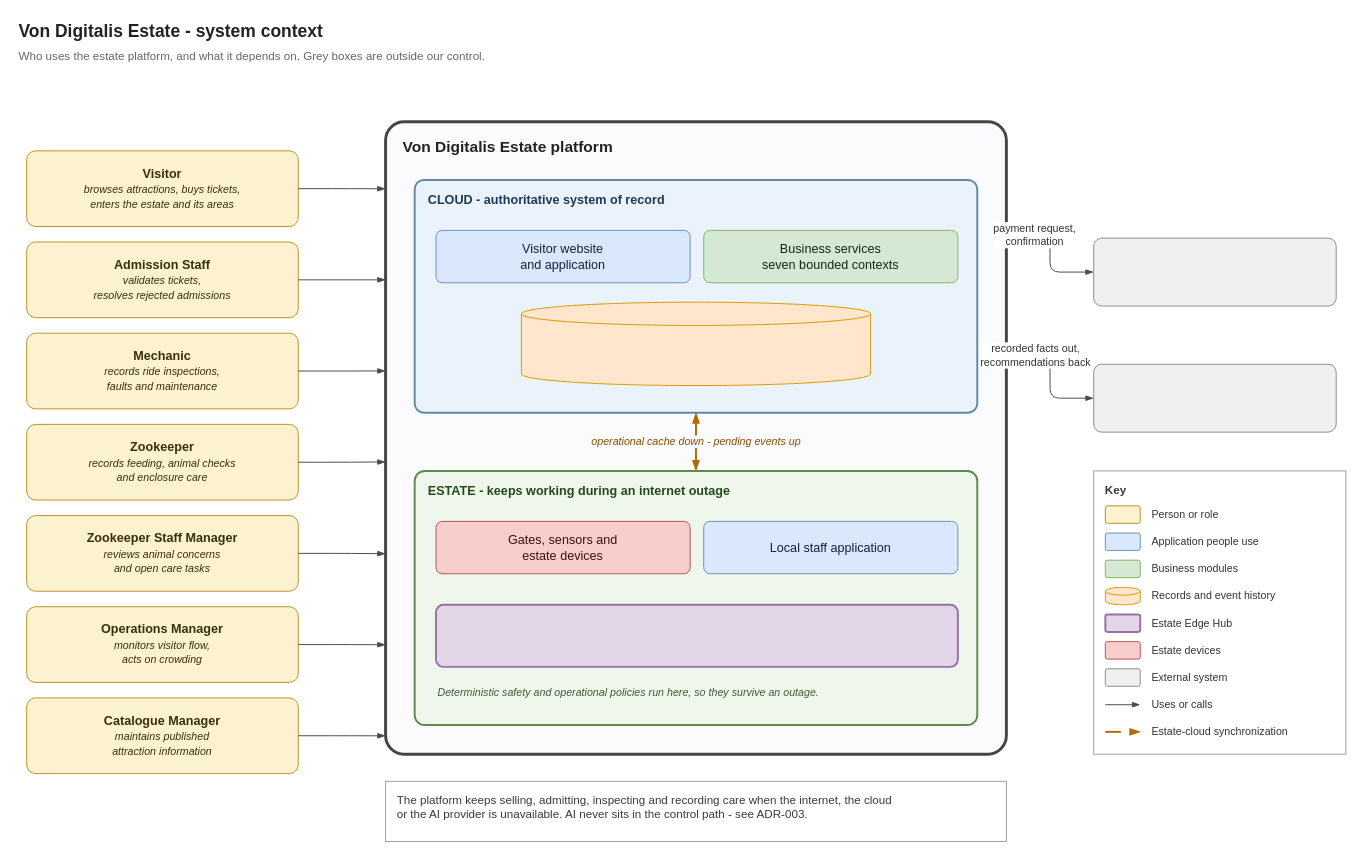
Some shapes in this 1363 by 858 pixel diagram are drawn without their labels. Each missing label, with the centre of its shape:
AI model provider external, replaceable: the point at 1214,397
Authoritative records and event history: the point at 695,343
Estate Edge Hub + lightweight local database: the point at 696,635
Payment Provider external: the point at 1214,271
